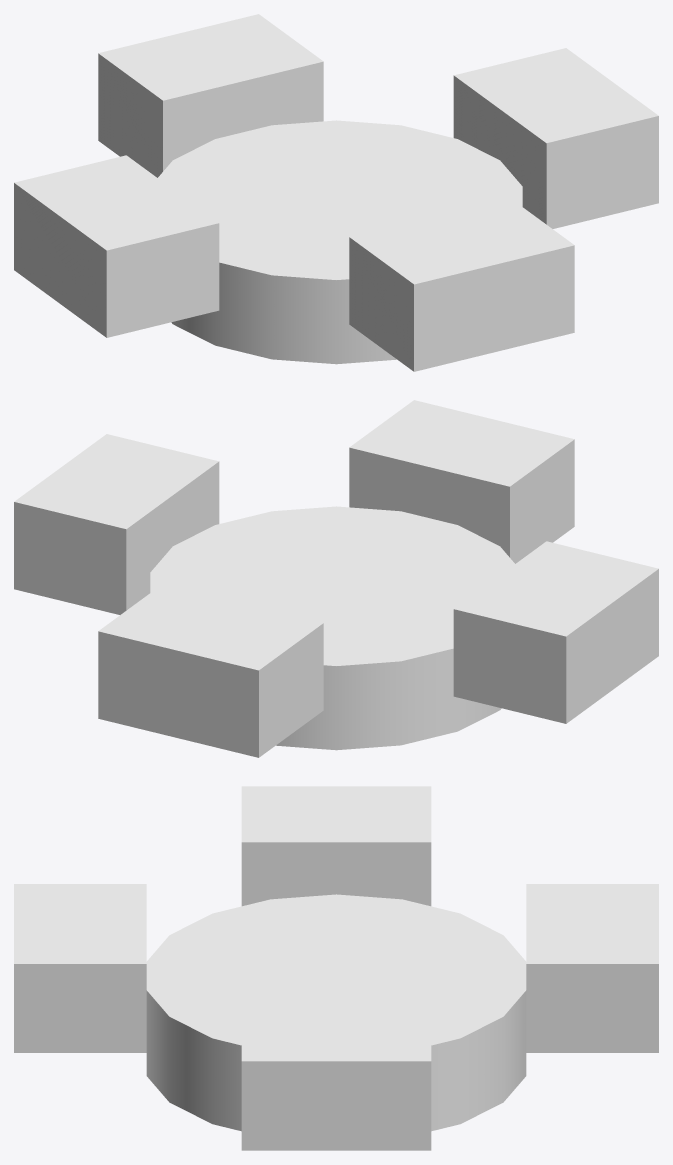
The model's file is gear.FBX.
3 views of the same model, one above another, from view 1: azimuth 30°, elevation 25°; view 2: azimuth 150°, elevation 25°; view 3: azimuth 270°, elevation 25° (orthographic). The views are drawn at different scales.
Visible parts, largest first — view 1: Cylinder001, Box007, Box005, Box004, Box006; view 2: Cylinder001, Box006, Box005, Box004, Box007; view 3: Cylinder001, Box004, Box006, Box007, Box005.
Part boxes in pixels (x1=…): Cylinder001: x1=158, y1=120, x2=522, y2=364; Box007: x1=349, y1=198, x2=574, y2=371; Box005: x1=14, y1=155, x2=219, y2=337; Box004: x1=453, y1=48, x2=658, y2=228; Box006: x1=98, y1=14, x2=323, y2=177; Cylinder001: x1=150, y1=506, x2=514, y2=750; Box006: x1=98, y1=584, x2=323, y2=757; Box005: x1=453, y1=541, x2=658, y2=723; Box004: x1=14, y1=434, x2=219, y2=614; Box007: x1=349, y1=400, x2=574, y2=563; Cylinder001: x1=146, y1=894, x2=526, y2=1131; Box004: x1=241, y1=1005, x2=431, y2=1150; Box006: x1=526, y1=884, x2=658, y2=1052; Box007: x1=14, y1=884, x2=146, y2=1052; Box005: x1=241, y1=786, x2=431, y2=906.
Bounding box in the file's own units: 344 × 341 × 80.36.
1 material, 1 textured.
